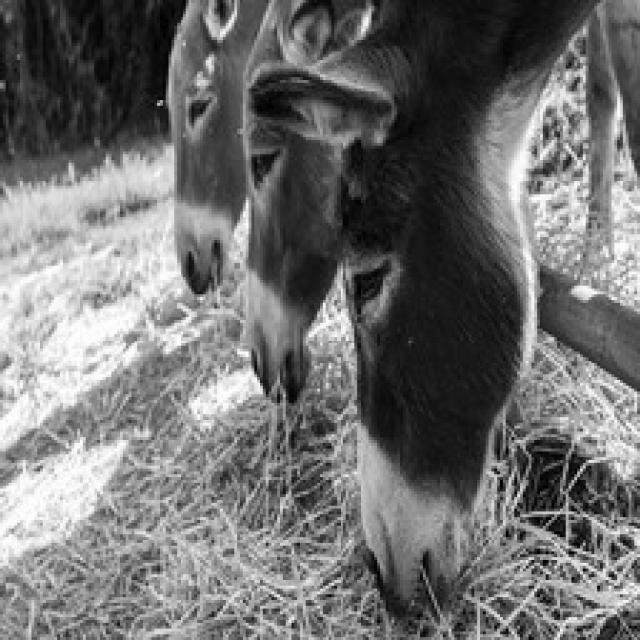Donkey: (235, 0, 636, 620), (189, 0, 457, 403), (162, 0, 270, 294)
